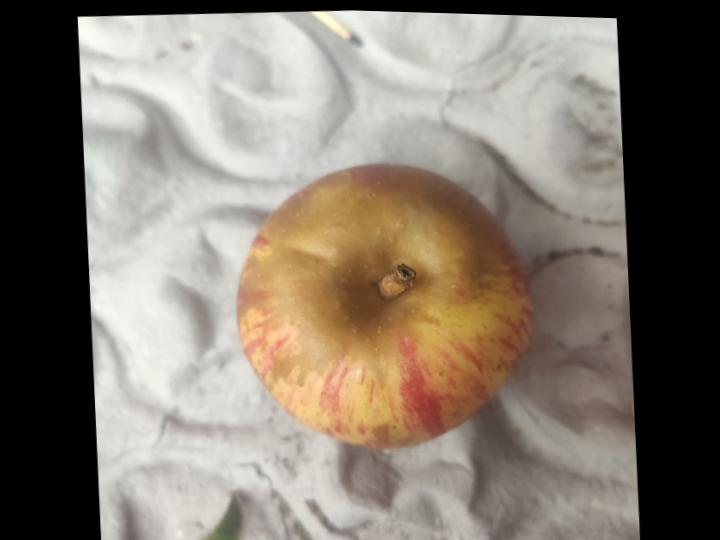apple: (237, 165, 531, 448)
bruise_discoloration: (238, 165, 504, 408)
